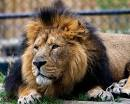lion: (19, 15, 129, 104)
